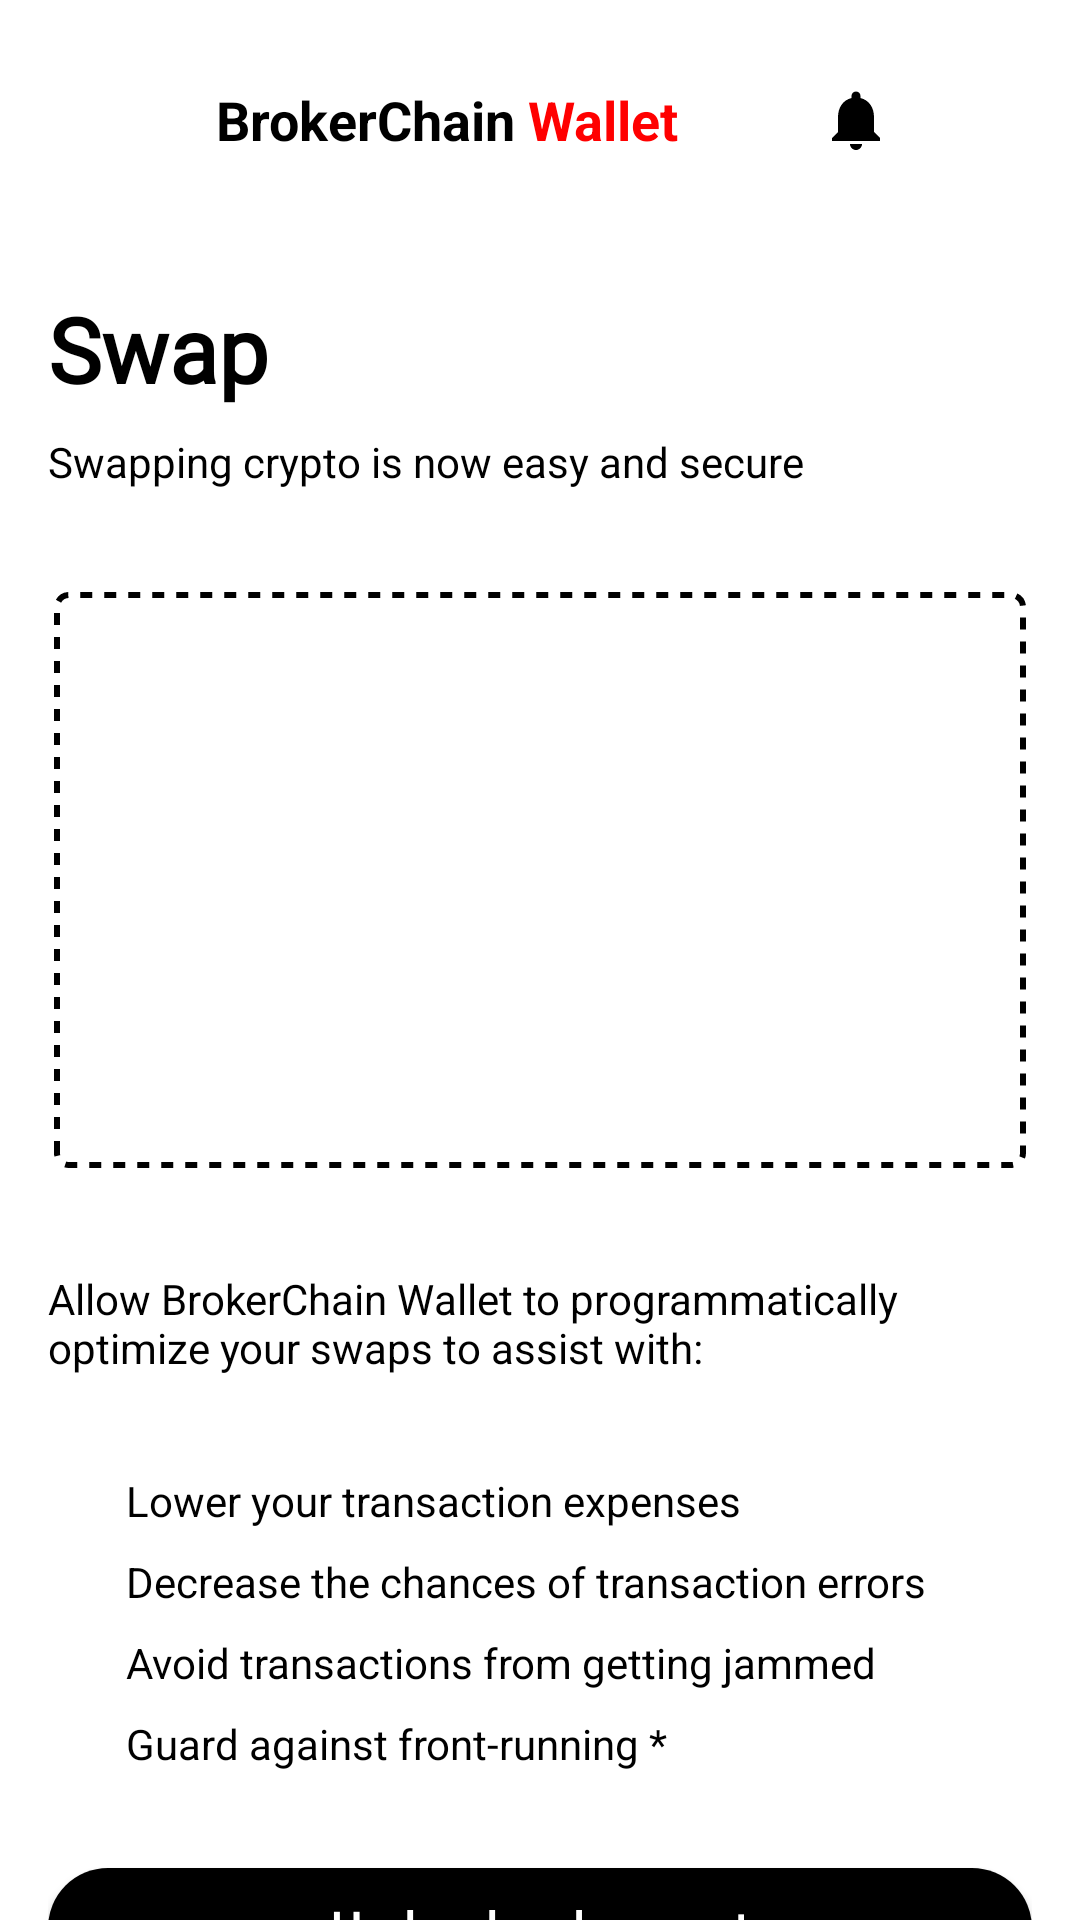

Icons on this 1080 x 1920 Android screen, each with the point to tap as [x,y]:
Notifications: [856,120]
